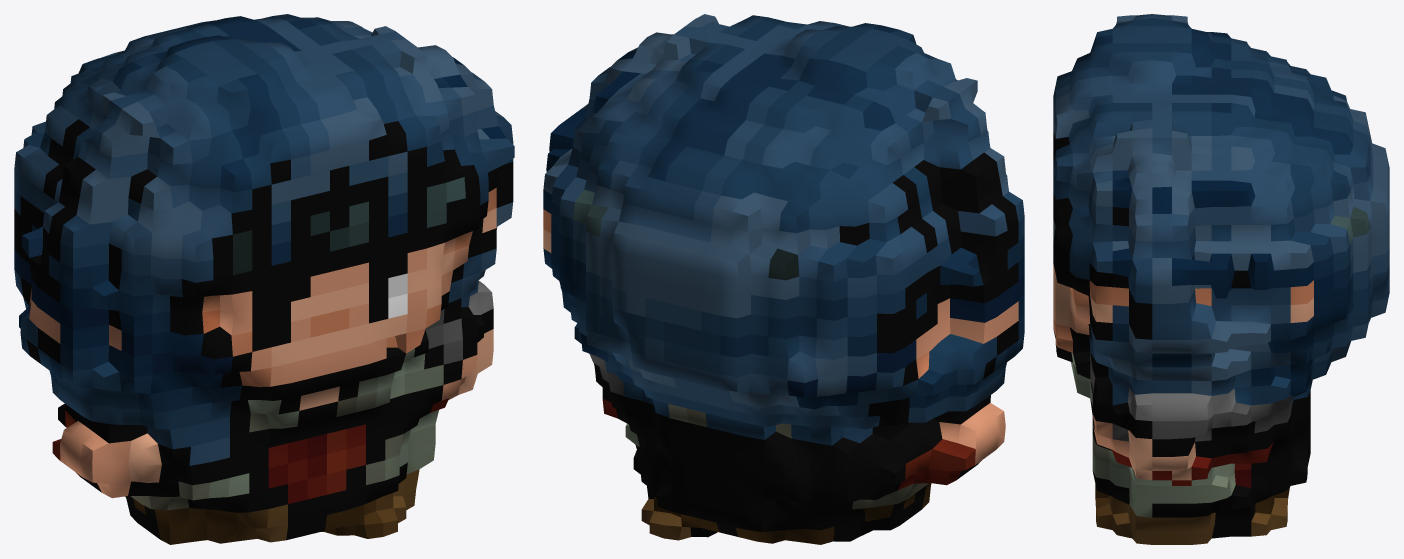
Rendered from Icon_752_01.obj.
3 views of the same model, side by side, from view 1: azimuth 30°, elevation 25°; view 2: azimuth 150°, elevation 25°; view 3: azimuth 270°, elevation 25° (orthographic). The views are drawn at different scales.
Bounding box in the file's own units: 2.3 × 2.4 × 1.7.
1 material, 1 textured.
